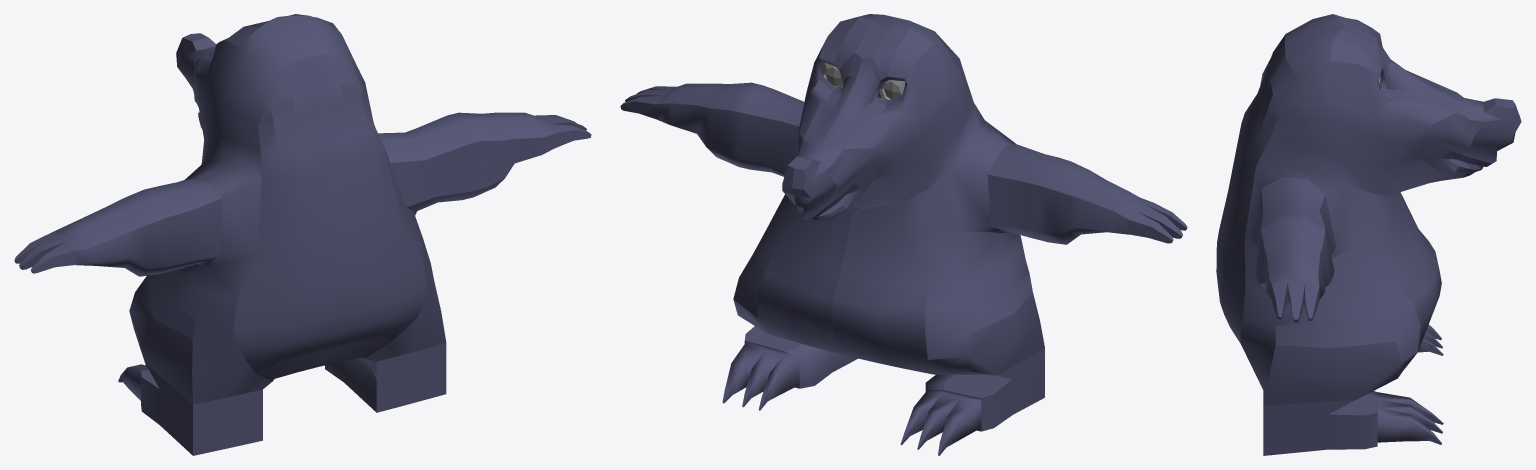
The model's file is prueba_topo2.fbx.
3 views of the same model, side by side, from view 1: azimuth 30°, elevation 25°; view 2: azimuth 150°, elevation 25°; view 3: azimuth 270°, elevation 25° (orthographic). The views are drawn at different scales.
Visible parts, largest first — view 1: pCube13; view 2: pCube13; view 3: pCube13.
Boxes of the visible parts, x1,y1,x2,y2 form: pCube13: (14, 14, 591, 455); pCube13: (620, 14, 1187, 455); pCube13: (1216, 14, 1521, 455).
Bounding box in the file's own units: 0.0353 × 0.0226 × 0.0168.
Materials: 2 (1 with a texture image).
